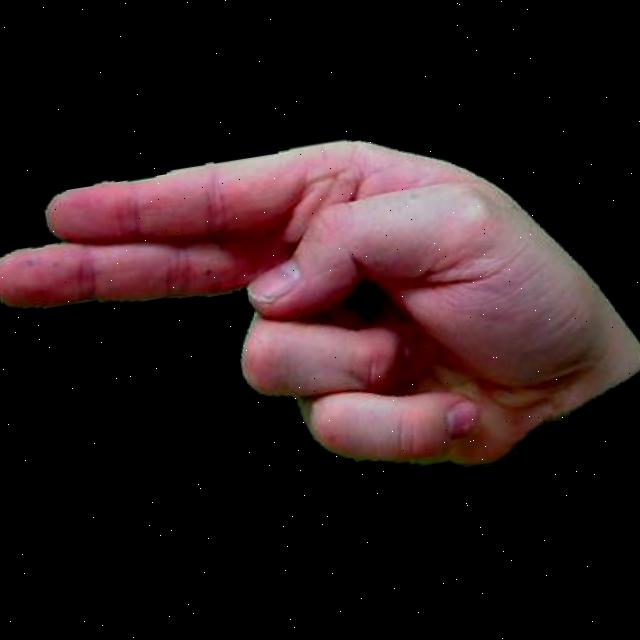h: (0, 78, 640, 557)
